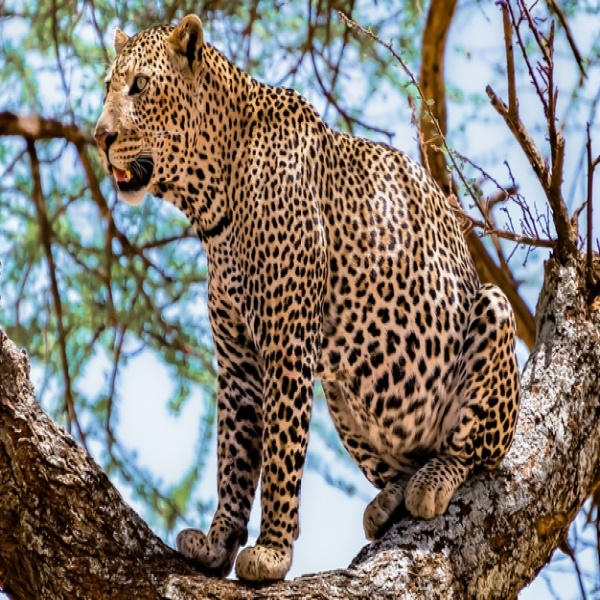Leopard: (91, 11, 524, 586)
